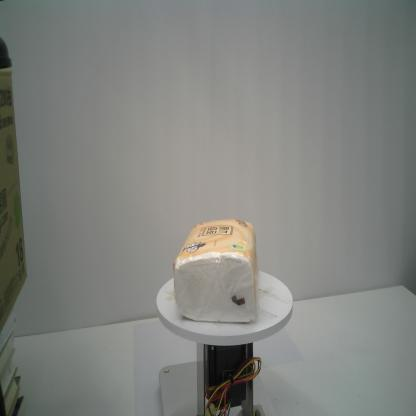Tissue: (173, 218, 260, 323)
